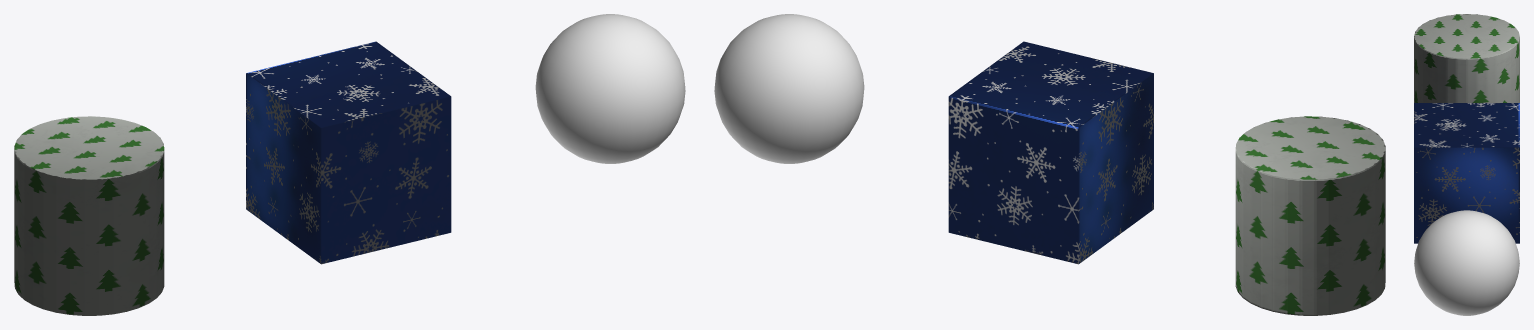
The model's file is gifts.glb.
3 renders of one model, left to right at view 1: azimuth 30°, elevation 25°; view 2: azimuth 150°, elevation 25°; view 3: azimuth 270°, elevation 25°, orthographic. The views are drawn at different scales.
Parts seen in each view (by area): view 1: Cube, Cylinder, Sphere; view 2: Cube, Cylinder, Sphere; view 3: Cube, Cylinder, Sphere.
Part boxes in pixels (x1=…): Cube: x1=246, y1=41, x2=451, y2=264; Cylinder: x1=14, y1=116, x2=164, y2=315; Sphere: x1=535, y1=14, x2=685, y2=163; Cube: x1=948, y1=41, x2=1153, y2=264; Cylinder: x1=1235, y1=116, x2=1385, y2=315; Sphere: x1=714, y1=14, x2=864, y2=163; Cube: x1=1414, y1=103, x2=1519, y2=243; Cylinder: x1=1414, y1=14, x2=1519, y2=102; Sphere: x1=1414, y1=210, x2=1519, y2=315.
Bounding box in the file's own units: 10.01 × 2 × 2.
2 materials, 2 textured.
